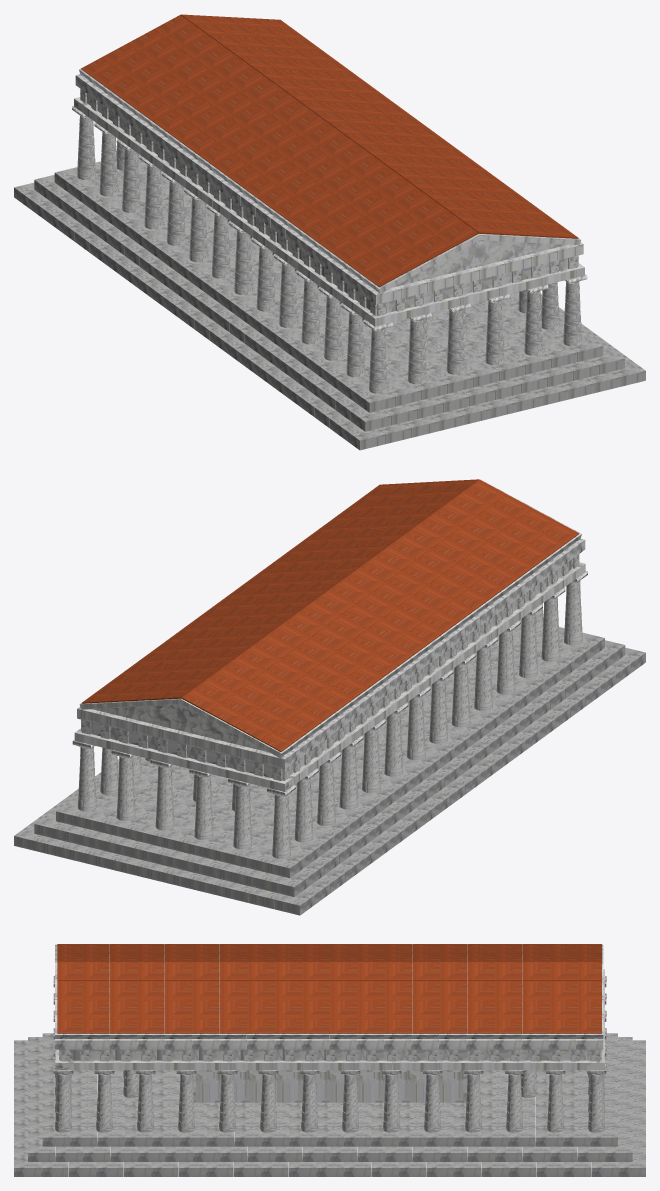
Rendered from atlantis-temple.glb.
3 views of the same model, one above another, from view 1: azimuth 30°, elevation 25°; view 2: azimuth 150°, elevation 25°; view 3: azimuth 270°, elevation 25° (orthographic). The views are drawn at different scales.
Parts seen in each view (by area): view 1: Roof_Shingles, Temple_Floor, Temple_Columns:Column_Shaft_Middle_Style_1_LOD_Material2 (×19), Roof_outer_brick, Outer_Frieze, Triglyphs, Metope, Roof_Middle2, Temple_Capitals; view 2: Roof_Shingles, Temple_Floor, Temple_Columns:Column_Shaft_Middle_Style_1_LOD_Material2 (×19), Roof_outer_brick, Outer_Frieze, Triglyphs, Metope, Roof_Middle2, Temple_Capitals; view 3: Temple_Floor, Roof_Shingles, Roof_outer_brick, Temple_Columns:Column_Shaft_Middle_Style_1_LOD_Material2 (×14), Interior_Wall, Outer_Frieze, Metope, Triglyphs, Temple_Capitals.
Boxes of the visible parts, <box> form: Roof_Shingles: <box>81,14,578,287</box>; Temple_Floor: <box>14,154,645,450</box>; Temple_Columns:Column_Shaft_Middle_Style_1_LOD_Material2 (×19): <box>77,125,581,383</box>; Roof_outer_brick: <box>75,56,583,304</box>; Outer_Frieze: <box>74,97,584,326</box>; Triglyphs: <box>80,89,578,315</box>; Metope: <box>87,93,568,315</box>; Roof_Middle2: <box>82,76,567,291</box>; Temple_Capitals: <box>72,106,587,330</box>; Roof_Shingles: <box>82,479,578,751</box>; Temple_Floor: <box>14,619,645,915</box>; Temple_Columns:Column_Shaft_Middle_Style_1_LOD_Material2 (×19): <box>78,590,582,848</box>; Roof_outer_brick: <box>77,479,585,769</box>; Outer_Frieze: <box>74,562,585,791</box>; Triglyphs: <box>81,554,579,781</box>; Metope: <box>91,559,572,780</box>; Roof_Middle2: <box>93,541,578,756</box>; Temple_Capitals: <box>72,571,587,796</box>; Temple_Floor: <box>14,1033,645,1176</box>; Roof_Shingles: <box>57,944,601,1033</box>; Roof_outer_brick: <box>55,944,603,1049</box>; Temple_Columns:Column_Shaft_Middle_Style_1_LOD_Material2 (×14): <box>55,1082,604,1123</box>; Interior_Wall: <box>192,1034,467,1102</box>; Outer_Frieze: <box>55,969,604,1070</box>; Metope: <box>60,1042,599,1060</box>; Triglyphs: <box>59,1048,601,1061</box>; Temple_Capitals: <box>53,976,606,1075</box>.
Bounding box in the file's own units: 19.1 × 10.57 × 40.
14 materials, 14 textured.
